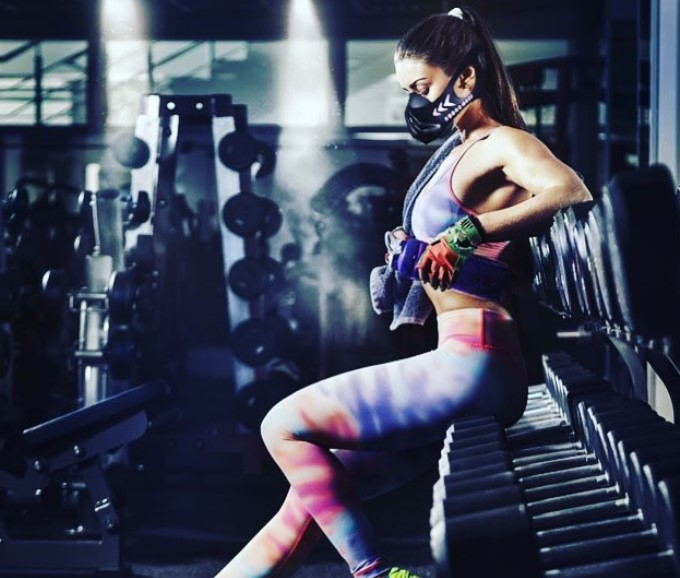face_with_mask: (393, 26, 483, 146)
